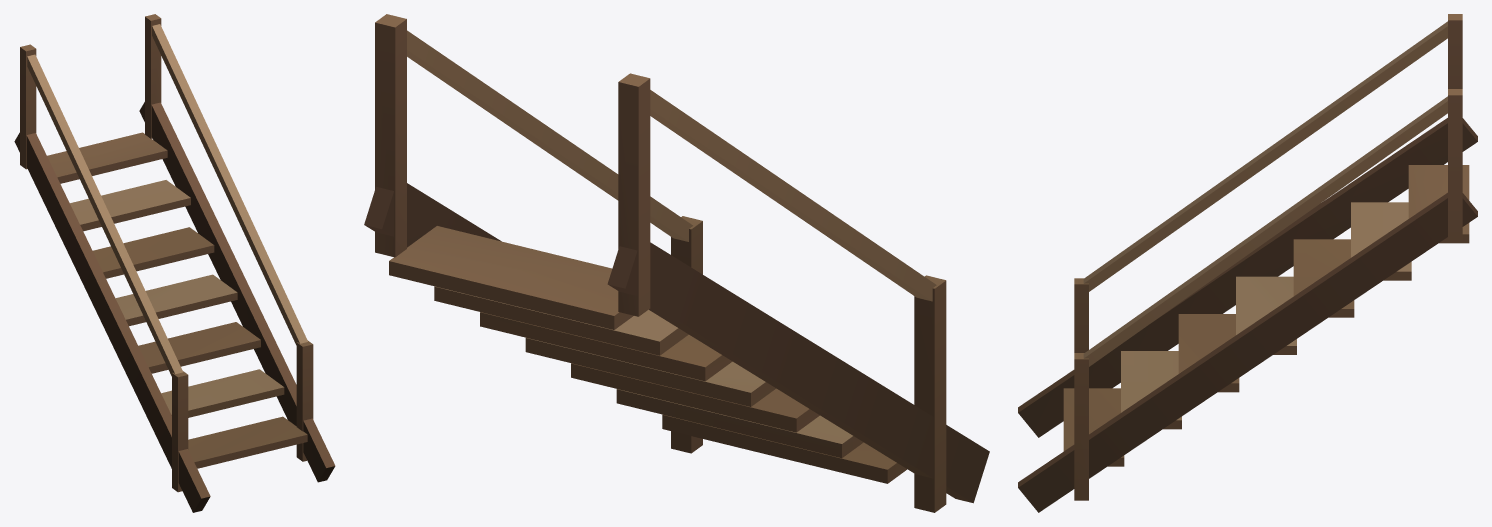
File: custom-passarela-escada.glb
The picture shows the model from 3 angles, left to right: view 1: azimuth 30°, elevation 25°; view 2: azimuth 150°, elevation 25°; view 3: azimuth 270°, elevation 25°; orthographic projection. The views are drawn at different scales.
Parts seen in each view (by area): view 1: passarela-escada; view 2: passarela-escada; view 3: passarela-escada.
Part boxes in pixels (box(x1,y1,x2,y2)): passarela-escada: box(14, 14, 335, 512); passarela-escada: box(364, 14, 989, 512); passarela-escada: box(1018, 14, 1477, 512).
Size of the model in its own units: 2.34 by 5.62 by 5.6.
